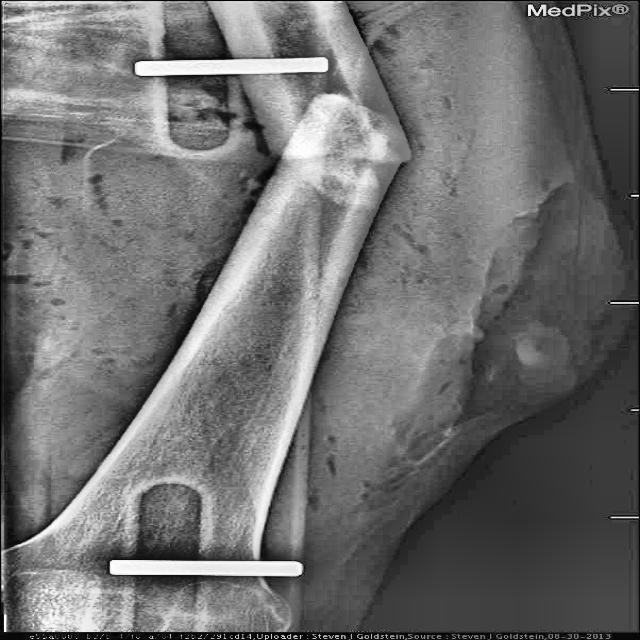angle: (268, 92, 410, 167)
